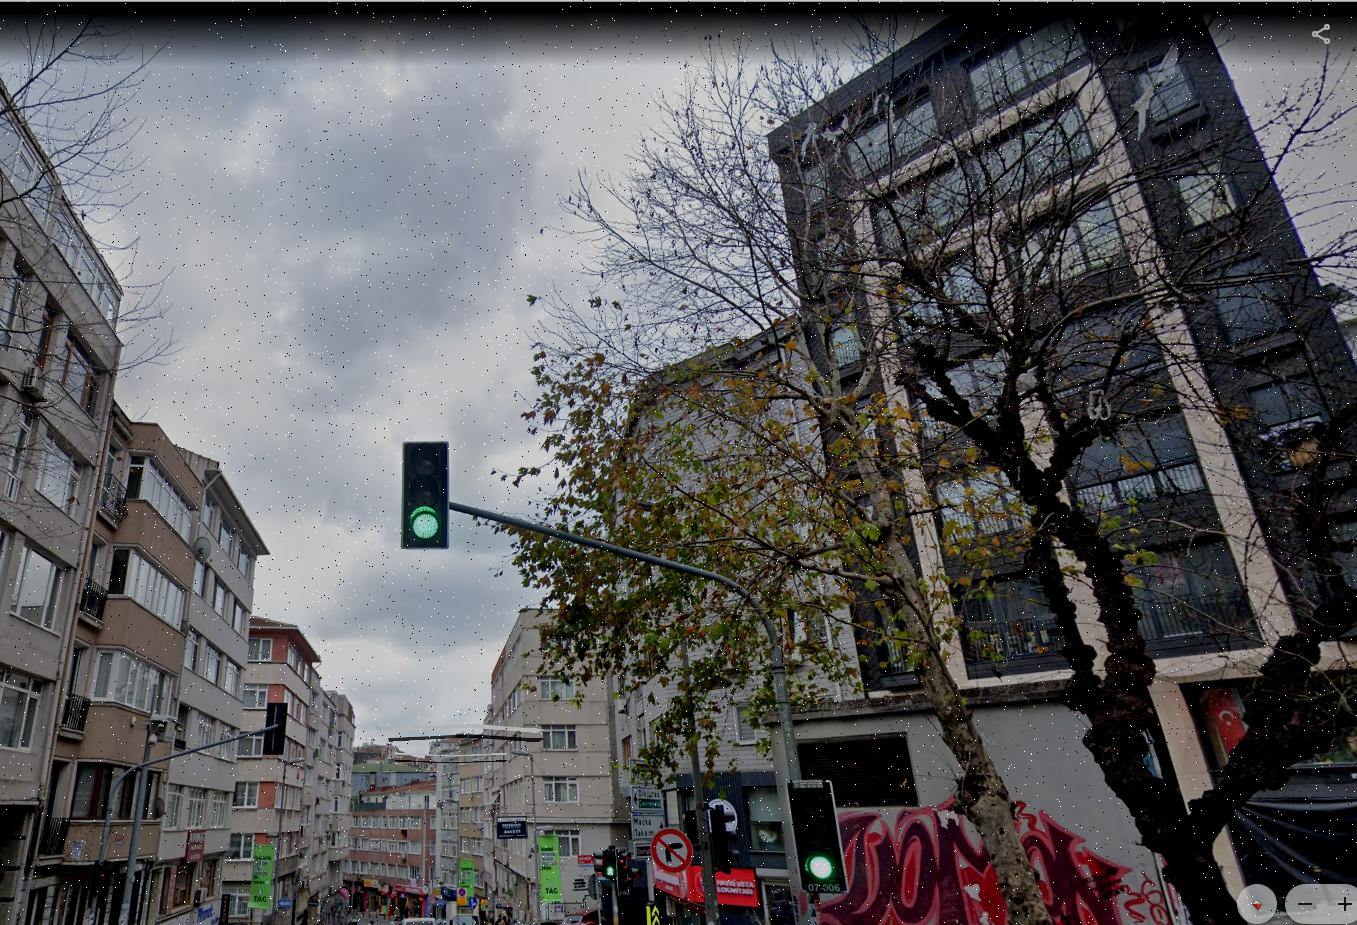greenlight: (397, 438, 452, 554), (790, 781, 841, 897)
rightturnsareforbidden: (655, 830, 692, 865)
